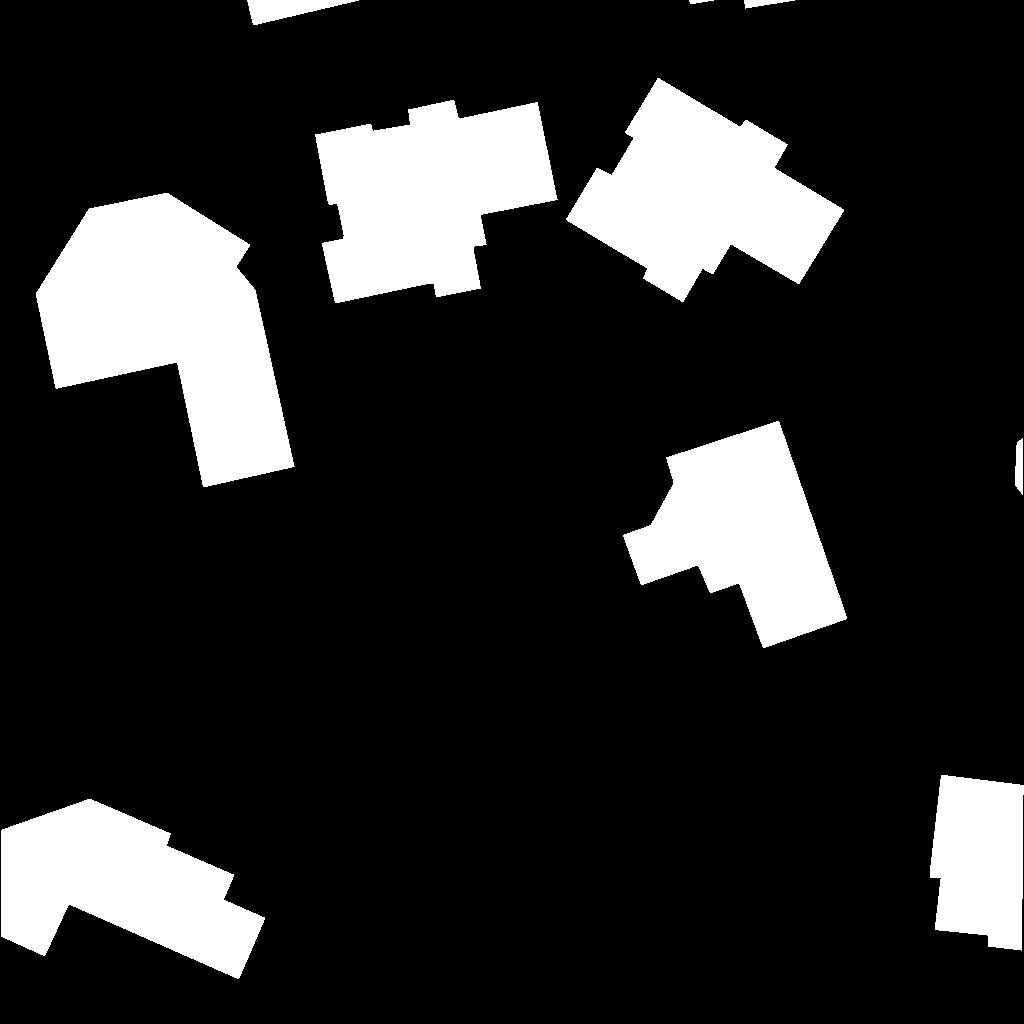building: (36, 193, 295, 488), (566, 78, 845, 303), (623, 421, 848, 649), (315, 100, 558, 304), (0, 799, 266, 980), (930, 775, 1024, 951), (247, 0, 362, 26), (689, 0, 799, 9), (1015, 438, 1024, 496)
